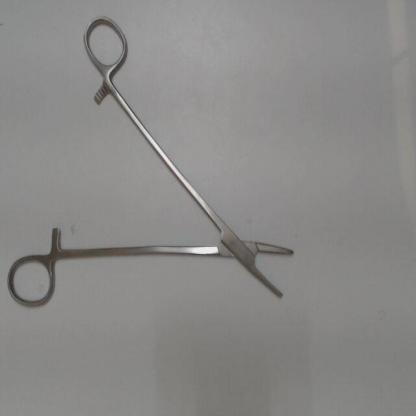8 Mayo Needle Holder: (3, 9, 306, 316)
